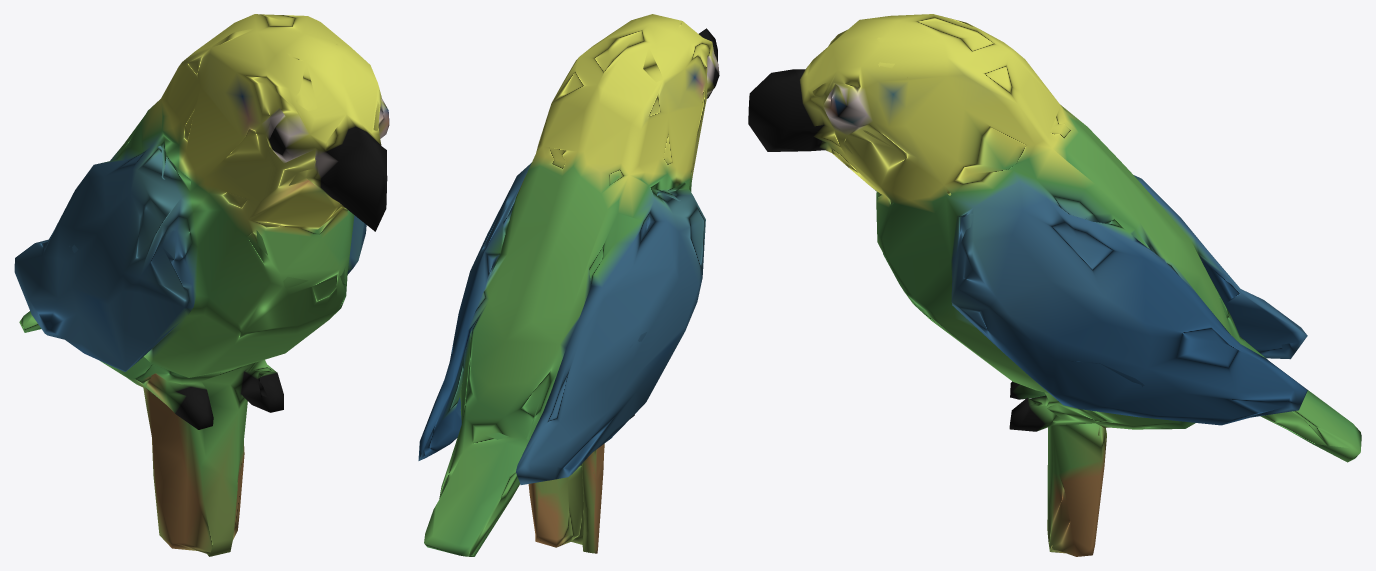
Rendered from gen3d-parrot-lod0.glb.
The picture shows the model from 3 angles, left to right: view 1: azimuth 30°, elevation 25°; view 2: azimuth 150°, elevation 25°; view 3: azimuth 270°, elevation 25°; orthographic projection. The views are drawn at different scales.
Visible parts, largest first — view 1: part_0; view 2: part_0; view 3: part_0.
Boxes of the visible parts, x1,y1,x2,y2 form: part_0: [14, 14, 389, 556]; part_0: [418, 14, 719, 556]; part_0: [748, 14, 1361, 556].
Bounding box in the file's own units: 0.4313 × 0.9969 × 1.05.
